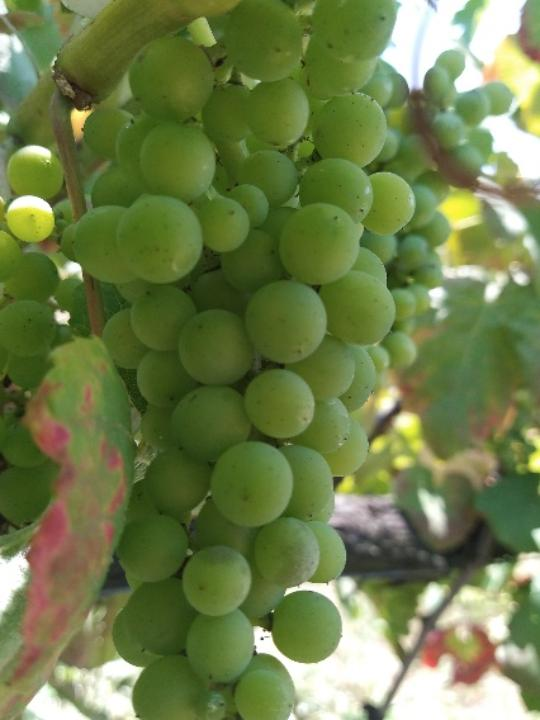grape: (60, 0, 416, 720)
